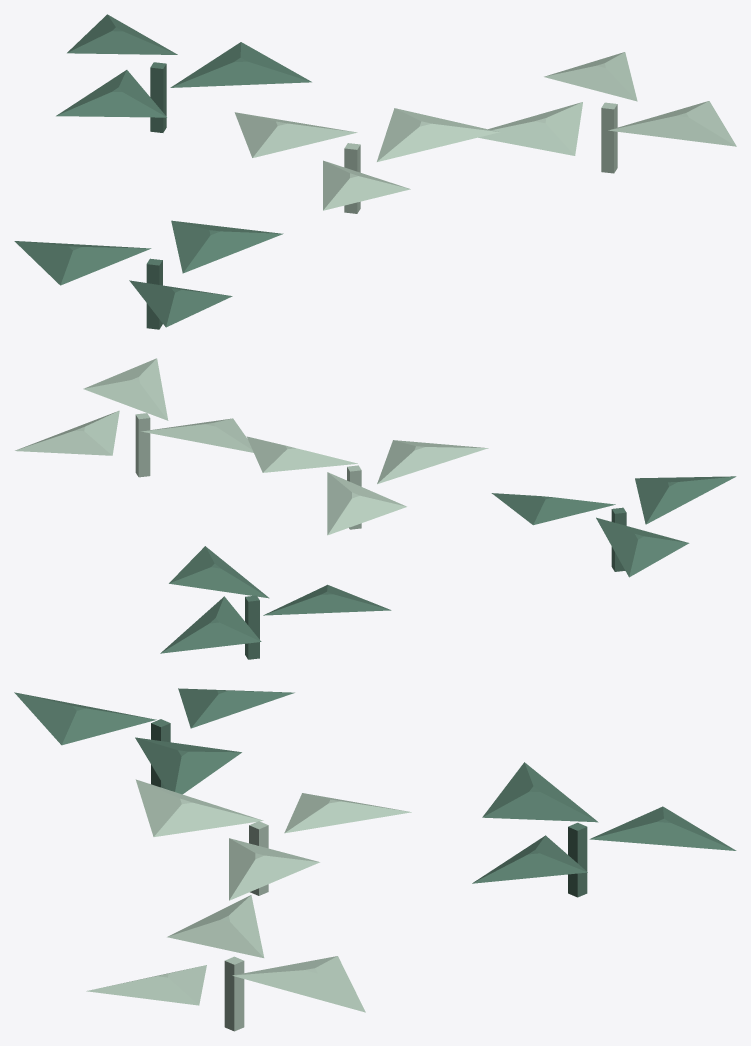
File: clover-patch.glb
3 renders of one model, top to bottom at view 1: azimuth 30°, elevation 25°; view 2: azimuth 150°, elevation 25°; view 3: azimuth 270°, elevation 25°, orthographic. The views are drawn at different scales.
Parts seen in each view (by area): view 1: clover-patch; view 2: clover-patch; view 3: clover-patch.
Part boxes in pixels (x1,y1,x2,y2): clover-patch: (14, 14, 736, 329); clover-patch: (15, 358, 736, 659); clover-patch: (14, 688, 736, 1031).
Bounding box in the file's own units: 0.3228 × 0.0428 × 0.2949.
